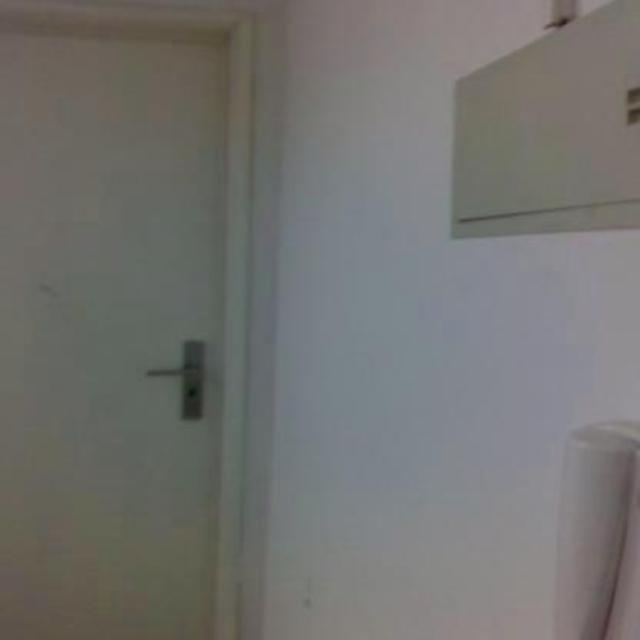door: (0, 6, 250, 638)
